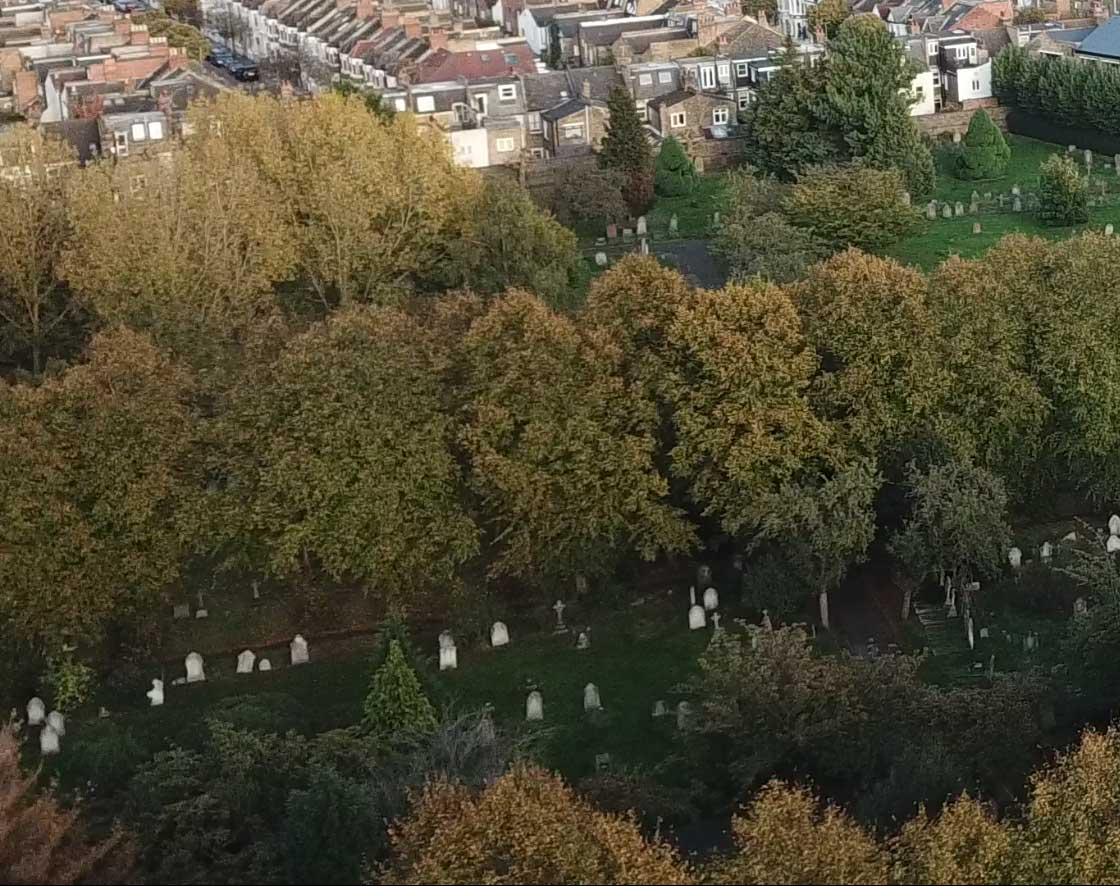trees: (173, 321, 999, 564)
